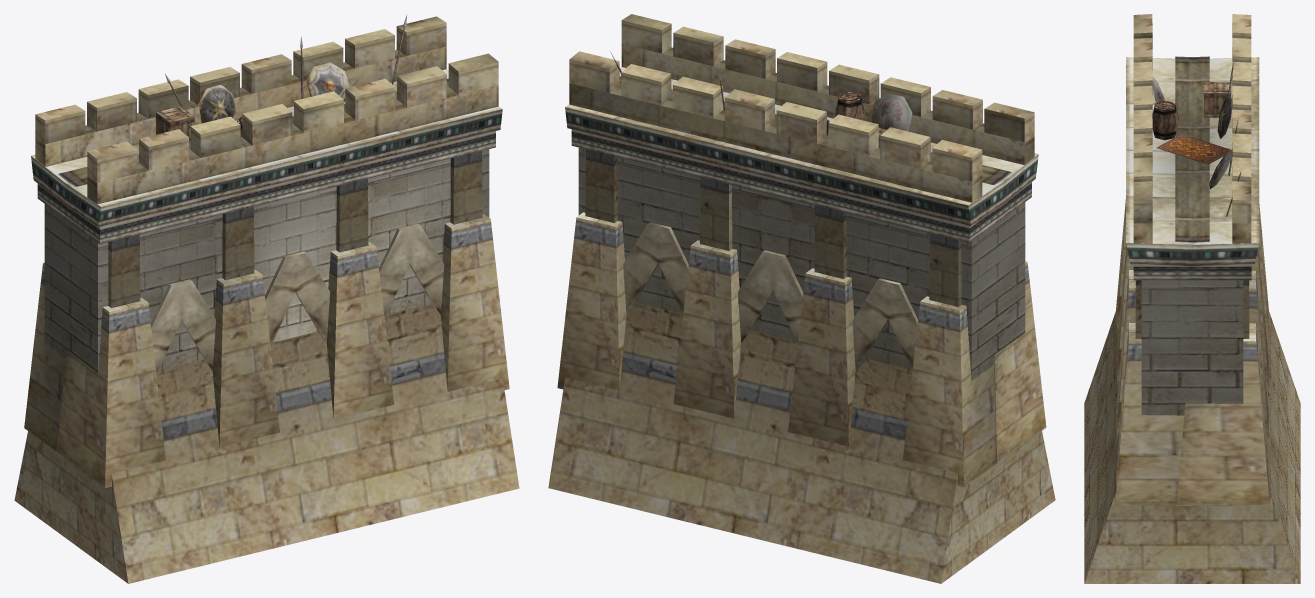
Rendered from s_carthaginians_wall_medium.glb.
3 views of the same model, side by side, from view 1: azimuth 30°, elevation 25°; view 2: azimuth 150°, elevation 25°; view 3: azimuth 270°, elevation 25° (orthographic). The views are drawn at different scales.
Visible parts, largest first — view 1: s_carthaginians_wall_medium_part0; view 2: s_carthaginians_wall_medium_part0; view 3: s_carthaginians_wall_medium_part0.
Part boxes in pixels (bbox=[...]): s_carthaginians_wall_medium_part0: bbox=[14, 14, 519, 583]; s_carthaginians_wall_medium_part0: bbox=[548, 14, 1055, 583]; s_carthaginians_wall_medium_part0: bbox=[1084, 14, 1300, 583].
Bounding box in the file's own units: 6.2 × 6.23 × 3.02.
Materials: 1 (1 with a texture image).
